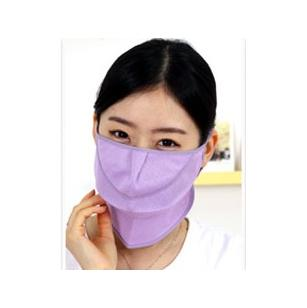face_mask: (93, 82, 200, 219)
